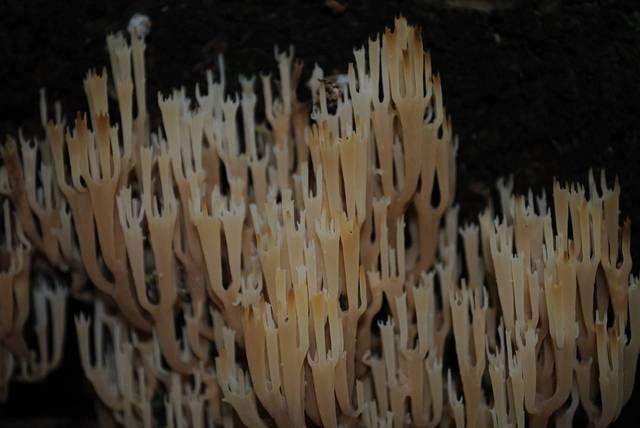Edible Mushroom: (1, 11, 638, 426)
